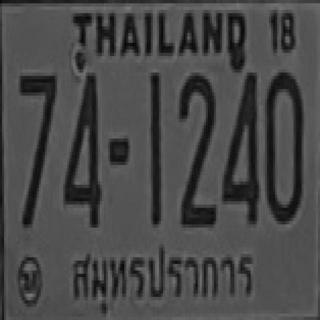N00: (265, 69, 302, 221)
N01: (148, 73, 160, 224)
N02: (178, 73, 215, 224)
N04: (61, 69, 100, 224), (220, 71, 259, 223)
N07: (18, 73, 55, 224), (18, 71, 55, 180)
P57: (64, 238, 260, 317)
